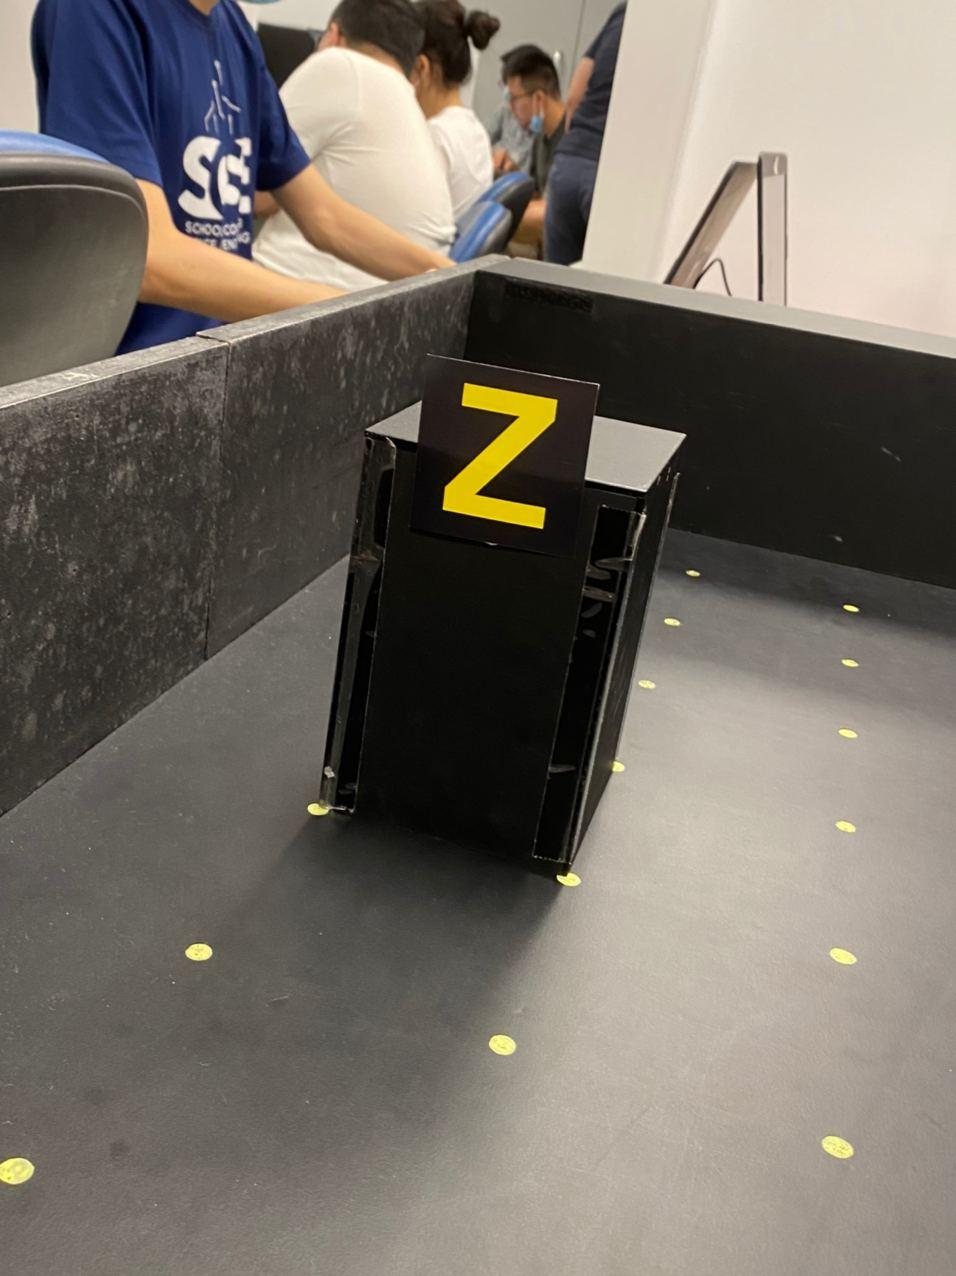z: (441, 373, 567, 524)
